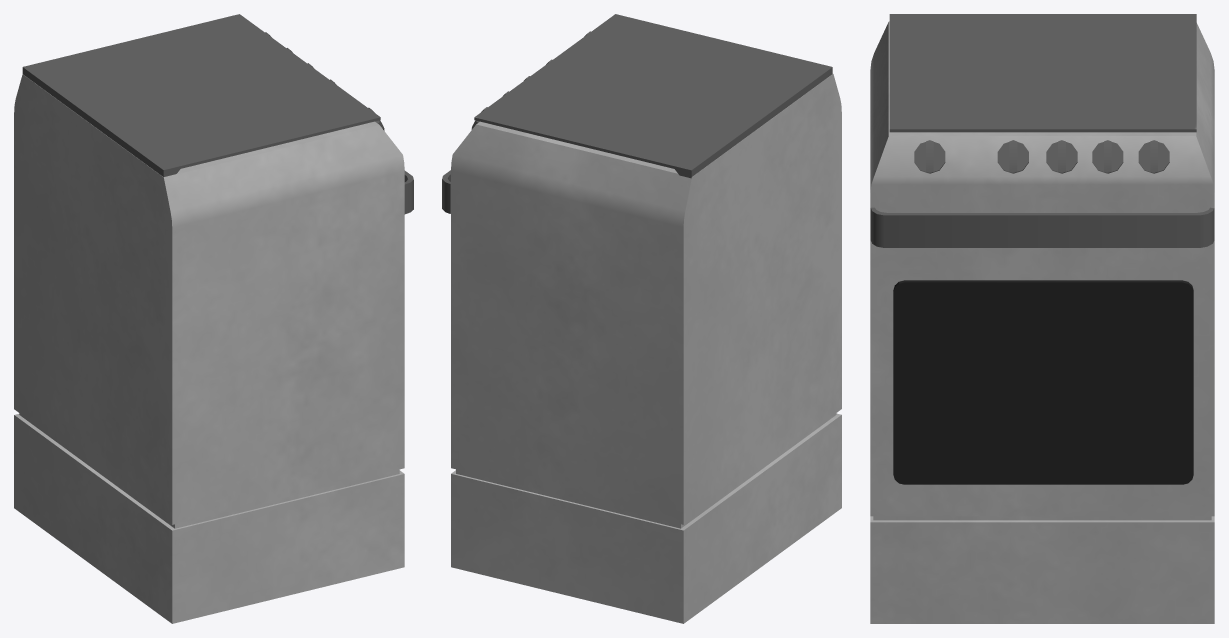
3 views of the same model, side by side, from view 1: azimuth 30°, elevation 25°; view 2: azimuth 150°, elevation 25°; view 3: azimuth 270°, elevation 25° (orthographic). The views are drawn at different scales.
Visible parts, largest first — view 1: polySurface24; view 2: polySurface24; view 3: polySurface24.
Part boxes in pixels (bbox=[...]): polySurface24: bbox=[14, 14, 413, 623]; polySurface24: bbox=[442, 14, 841, 623]; polySurface24: bbox=[870, 14, 1214, 623].
Size of the model in its own units: 6.2 by 10.72 by 6.87.
